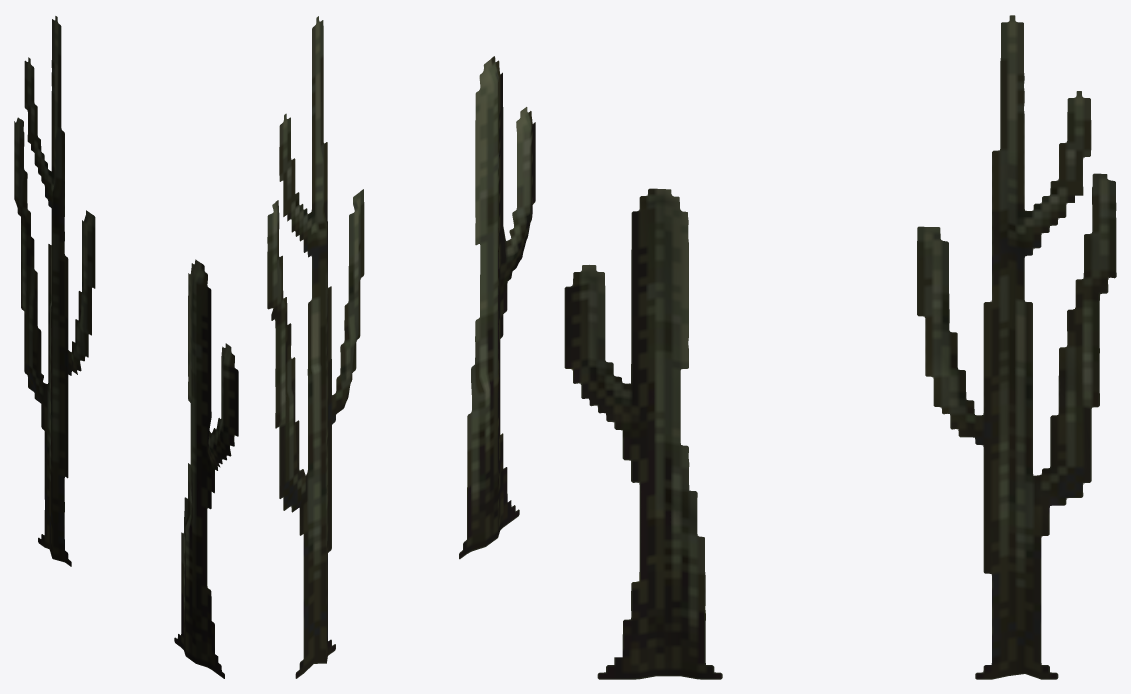
Rendered from ObjMD_Desert_Tree_A_fat.FBX.
3 views of the same model, side by side, from view 1: azimuth 30°, elevation 25°; view 2: azimuth 150°, elevation 25°; view 3: azimuth 270°, elevation 25° (orthographic). The views are drawn at different scales.
Parts seen in each view (by area): view 1: ObjMD_Desert_Tree_A_thin, ObjMD_Desert_Tree_A_fat; view 2: ObjMD_Desert_Tree_A_thin, ObjMD_Desert_Tree_A_fat; view 3: ObjMD_Desert_Tree_A_thin, ObjMD_Desert_Tree_A_fat.
Part boxes in pixels (<box>): ObjMD_Desert_Tree_A_thin: <box>14,16,95,566</box>; ObjMD_Desert_Tree_A_fat: <box>174,259,238,678</box>; ObjMD_Desert_Tree_A_thin: <box>267,16,364,678</box>; ObjMD_Desert_Tree_A_fat: <box>459,56,535,559</box>; ObjMD_Desert_Tree_A_thin: <box>917,15,1116,679</box>; ObjMD_Desert_Tree_A_fat: <box>564,188,722,679</box>.
Bounding box in the file's own units: 6.25 × 550 × 414.
